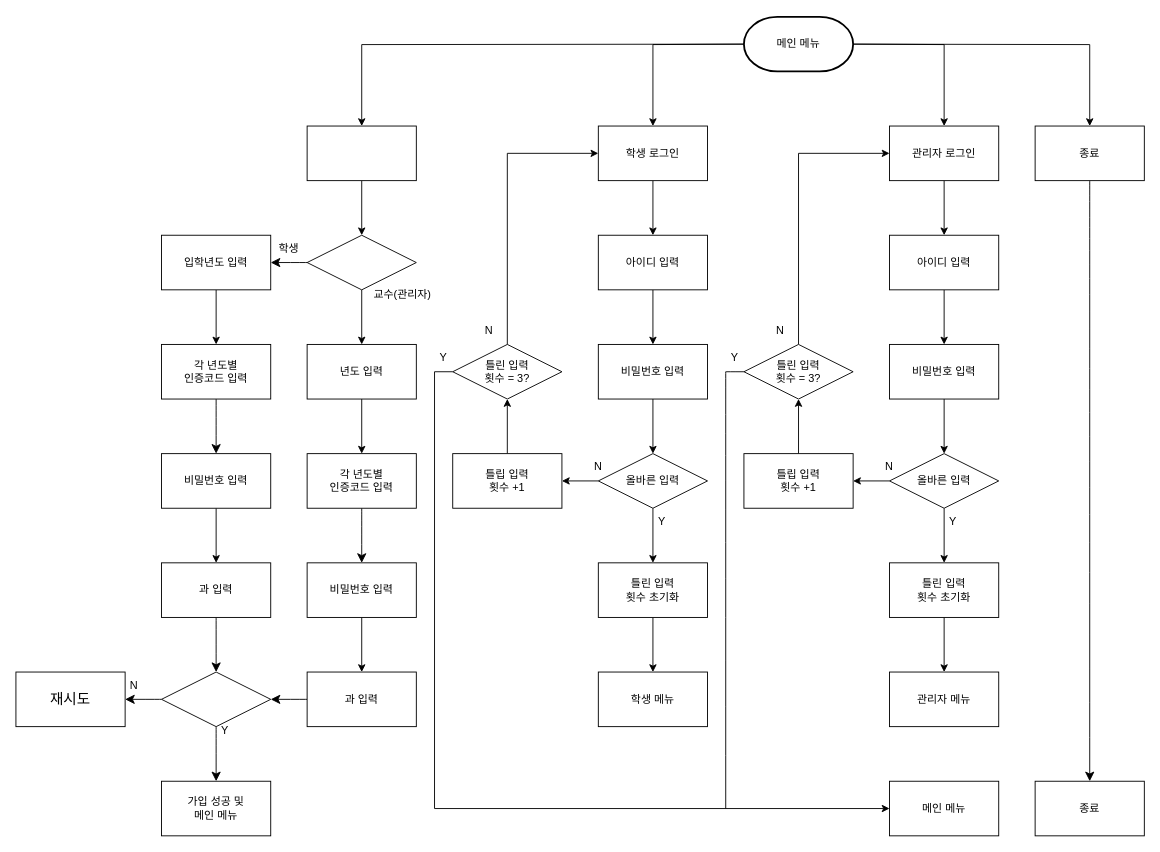
The diagram is 1160 pixels wide and 852 high, and some of its shapes have lost their labels. Here are the shapes that lost their labels. From the top down, the box of each, then its label:
(306, 125, 416, 181): 회원가입
(306, 234, 416, 290): 학생, 교수
(161, 671, 271, 727): 등록되지 않은 정보인가?
